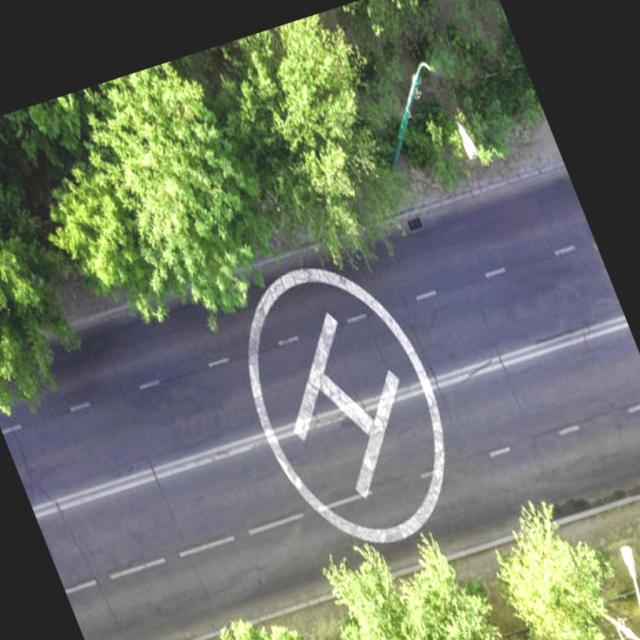helipad: (242, 263, 448, 546)
